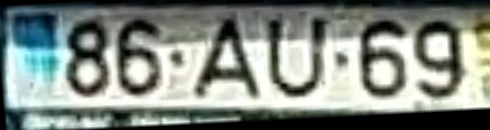6: (357, 15, 411, 102), (114, 15, 167, 100)
8: (64, 17, 112, 100)
9: (413, 17, 465, 101)
A: (187, 15, 263, 101)
U: (267, 15, 329, 101)
